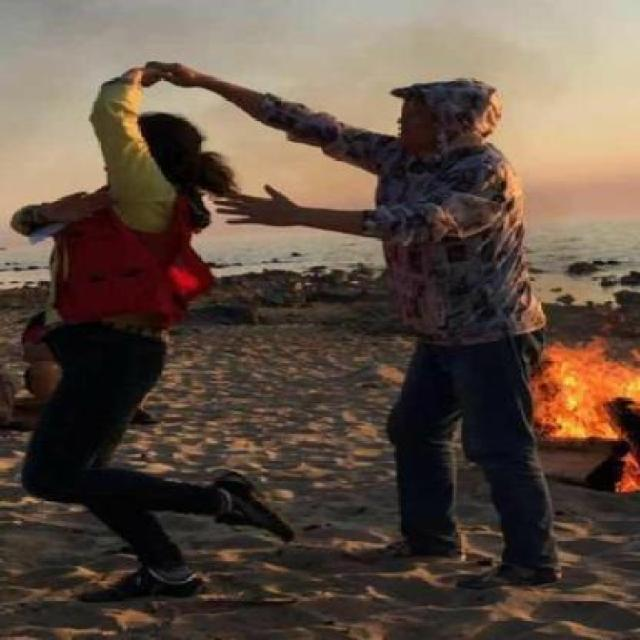Fire: (537, 332, 640, 498)
